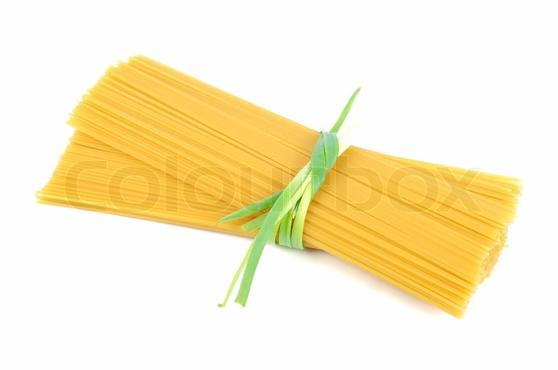spaghetti: (39, 52, 529, 323)
